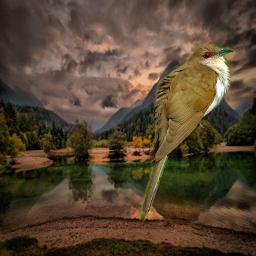Cuckoo: (138, 44, 234, 222)
